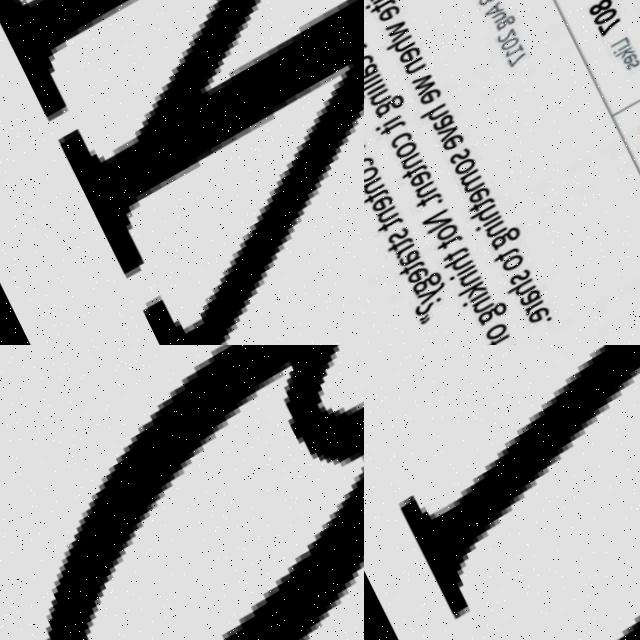0: (592, 13, 618, 34), (499, 40, 520, 58)
1: (502, 47, 525, 66)
2: (495, 33, 516, 50)
3: (476, 0, 498, 13)
7: (597, 24, 623, 44), (506, 56, 527, 73)
8: (584, 1, 615, 27)
Q: (0, 345, 364, 640)
U: (364, 345, 640, 640)
W: (0, 0, 364, 345)
